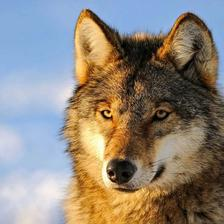WOLF: (67, 7, 224, 224)
